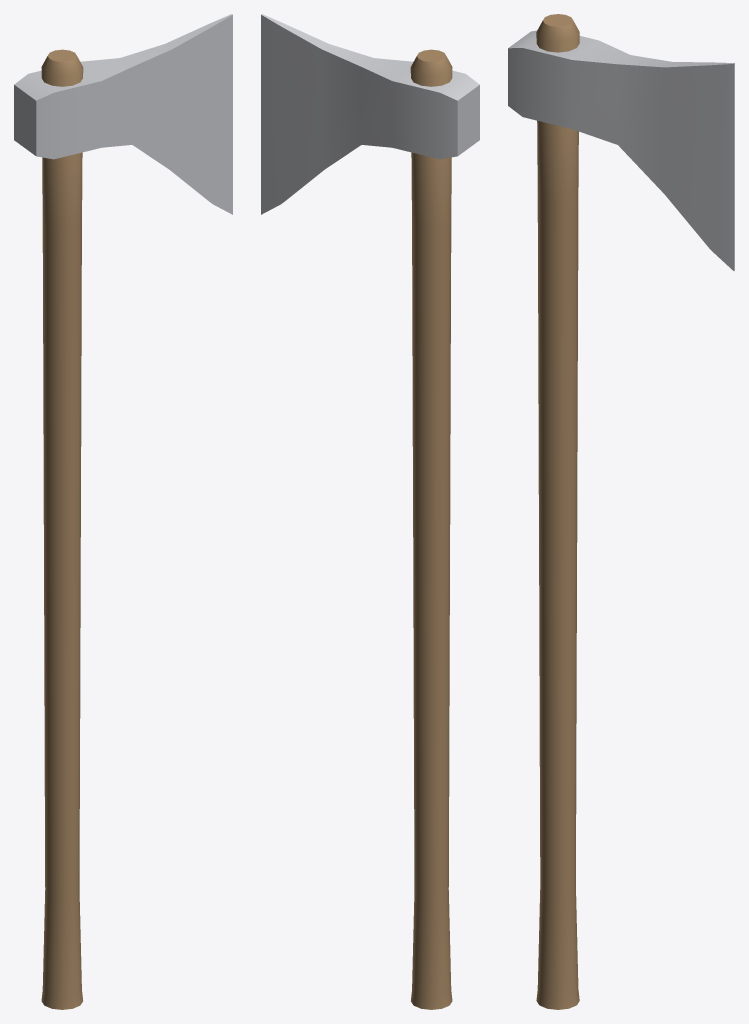
File: axe.glb
The picture shows the model from 3 angles, left to right: view 1: azimuth 30°, elevation 25°; view 2: azimuth 150°, elevation 25°; view 3: azimuth 330°, elevation 25°; orthographic projection. The views are drawn at different scales.
Visible parts, largest first — view 1: OUT; view 2: OUT; view 3: OUT.
Boxes of the visible parts, x1,y1,x2,y2 form: OUT: (14,14,232,1009); OUT: (261,14,479,1009); OUT: (508,14,734,1009).
Size of the model in its own units: 0.195 by 0.85 by 0.042.
